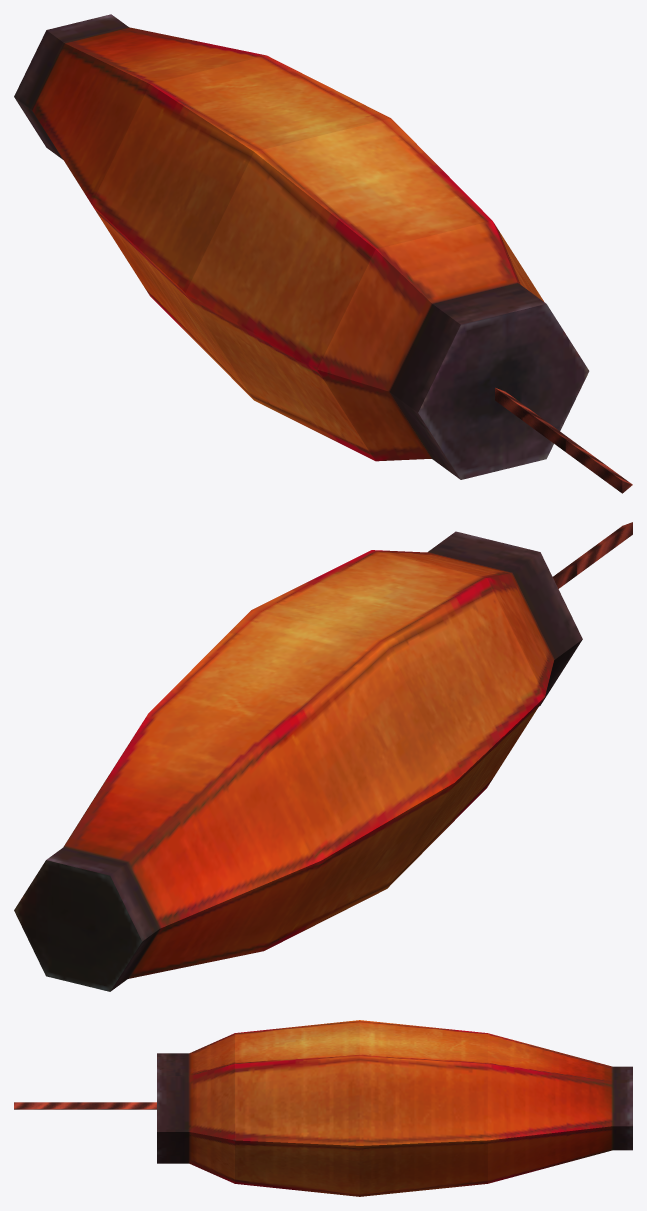
File: huodong_fuben_404_denglong.obj
3 views of the same model, one above another, from view 1: azimuth 30°, elevation 25°; view 2: azimuth 150°, elevation 25°; view 3: azimuth 270°, elevation 25° (orthographic). The views are drawn at different scales.
Visible parts, largest first — view 1: huodong_fuben_404_denglong; view 2: huodong_fuben_404_denglong; view 3: huodong_fuben_404_denglong.
Boxes of the visible parts, box(x1,y1,x2,y2) form: huodong_fuben_404_denglong: box(14, 14, 632, 493); huodong_fuben_404_denglong: box(14, 522, 632, 991); huodong_fuben_404_denglong: box(14, 1020, 632, 1196).
Bounding box in the file's own units: 15.09 × 13.07 × 52.64.
1 material, 1 textured.
